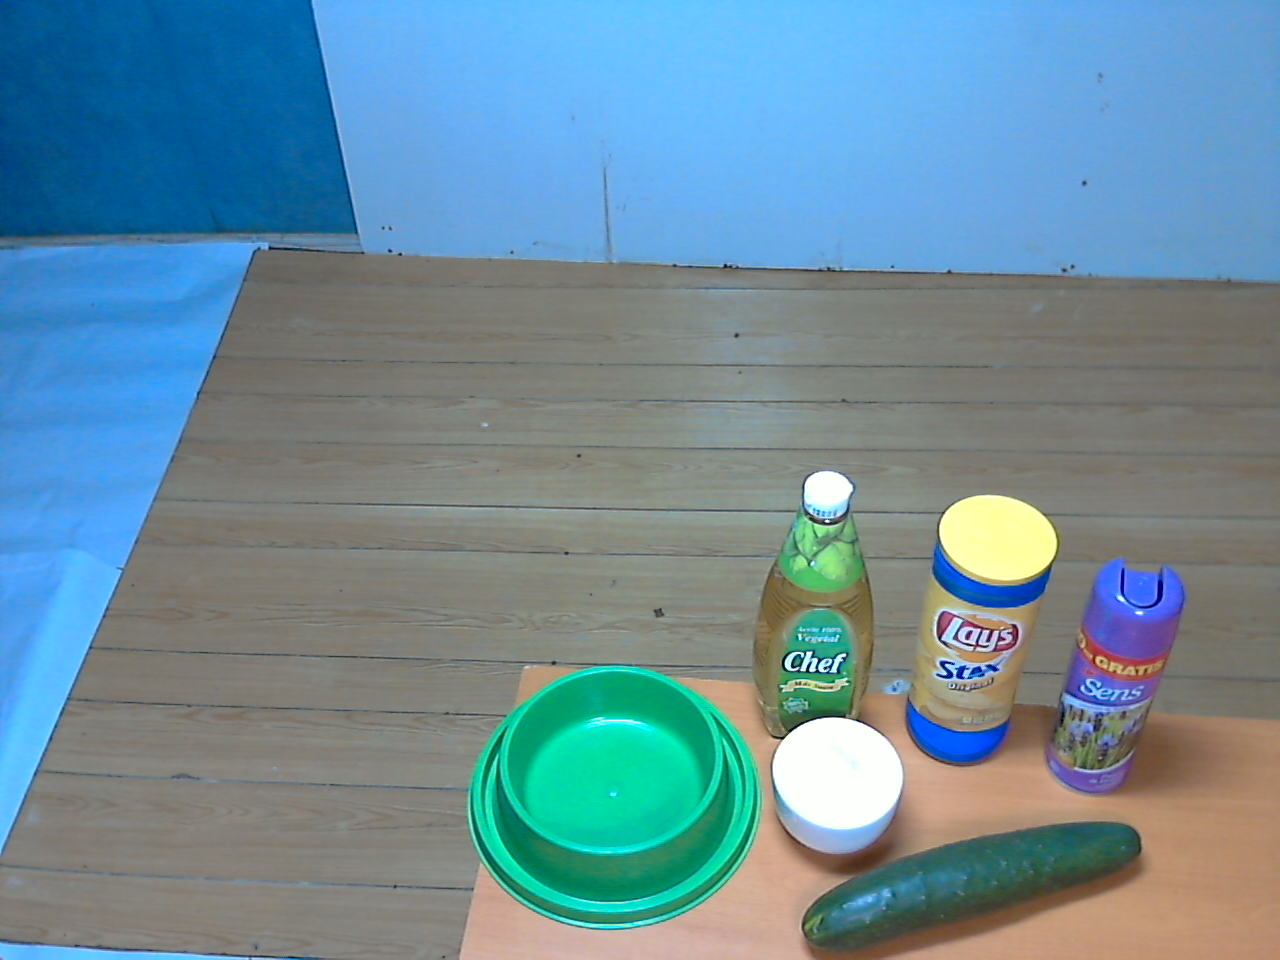aceite: (742, 460, 885, 756)
aerosol: (1042, 548, 1199, 798)
azucarero: (767, 709, 911, 867)
papas: (902, 484, 1064, 773)
pepino: (791, 809, 1153, 960)
platoperro: (461, 653, 764, 941)
